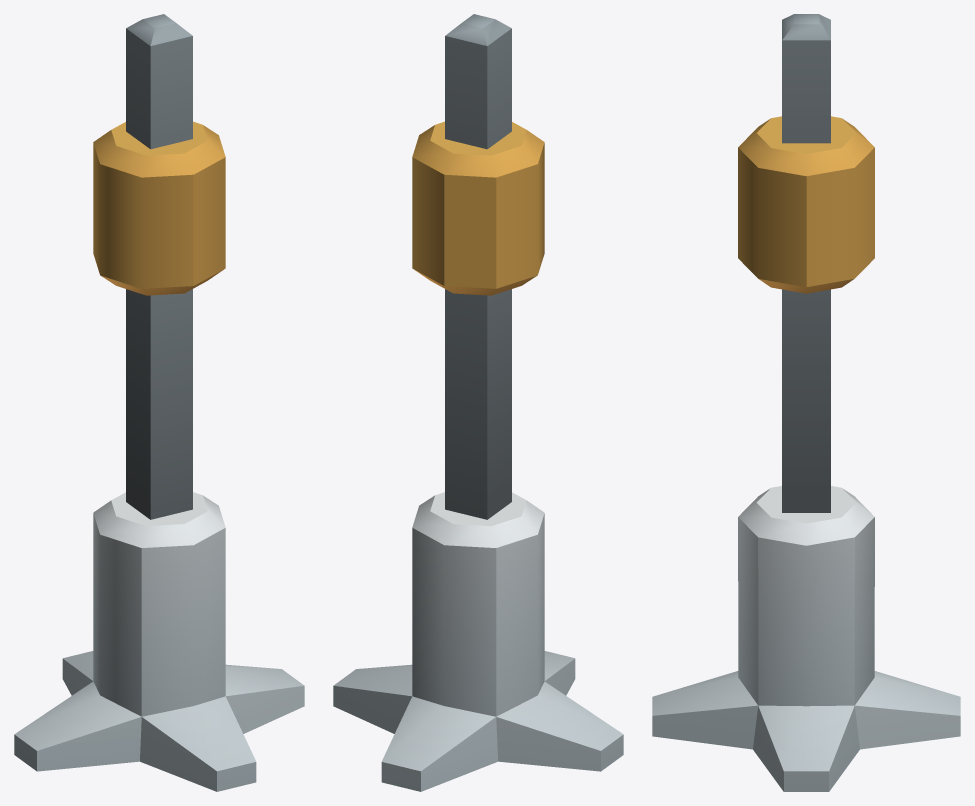
The model's file is windturbine_tall.obj.
The picture shows the model from 3 angles, left to right: view 1: azimuth 30°, elevation 25°; view 2: azimuth 150°, elevation 25°; view 3: azimuth 270°, elevation 25°; orthographic projection.
Bounding box in the file's own units: 0.68 × 1.72 × 0.68.
1 material, 1 textured.
